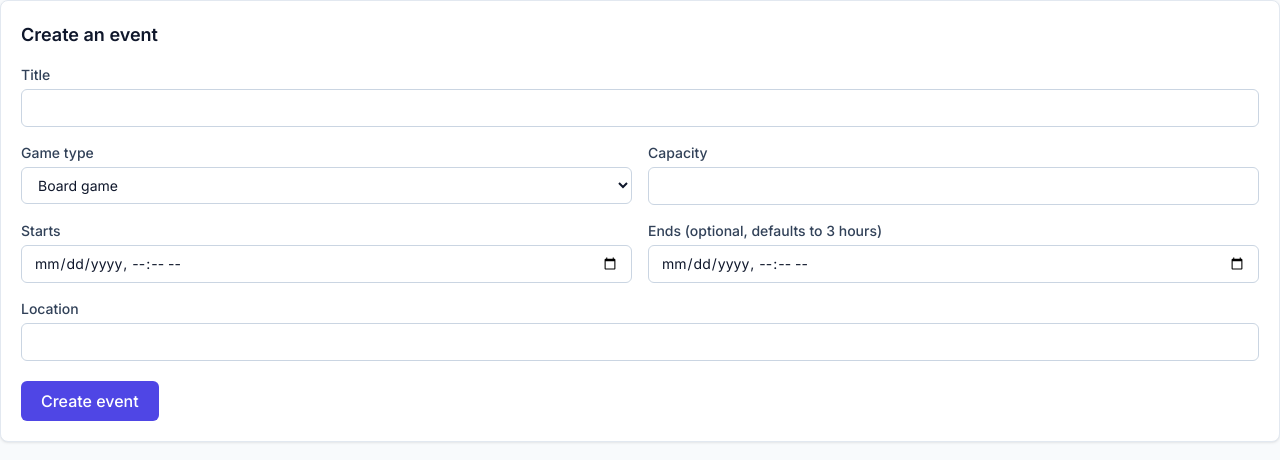
Test: CreateEventForm › submits a valid form, resets it, and notifies the parent
This screenshot has width=1280, height=460.
Type "Sealed League Night" into the field labelled "Title" at (640, 108), box [21, 89, 1259, 127]
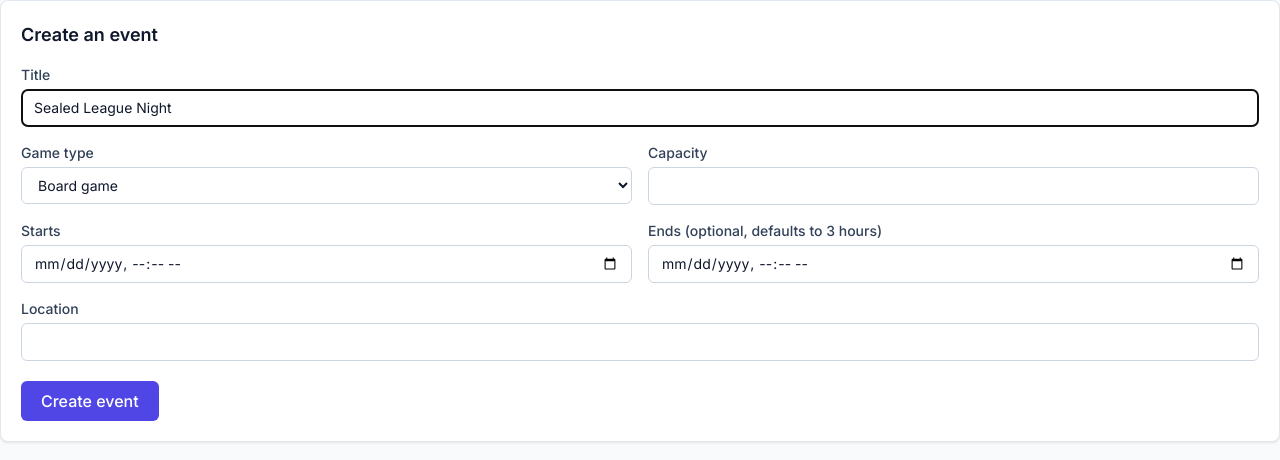
Select "TCG" in the dropdown labelled "Game type" at (326, 186), box [21, 167, 632, 204]
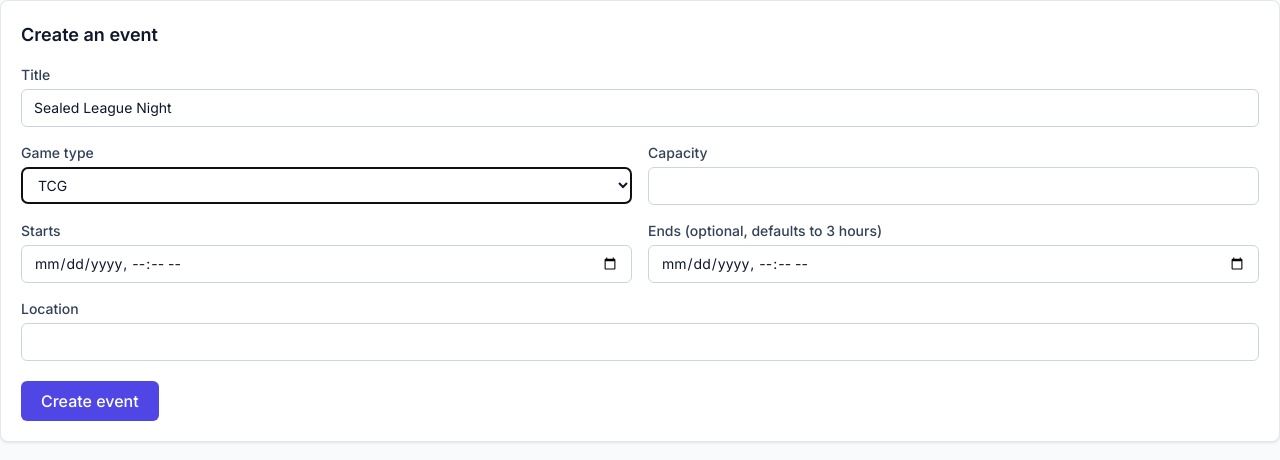
Type "8" into the number field labelled "Capacity" at (954, 186), box [648, 167, 1259, 205]
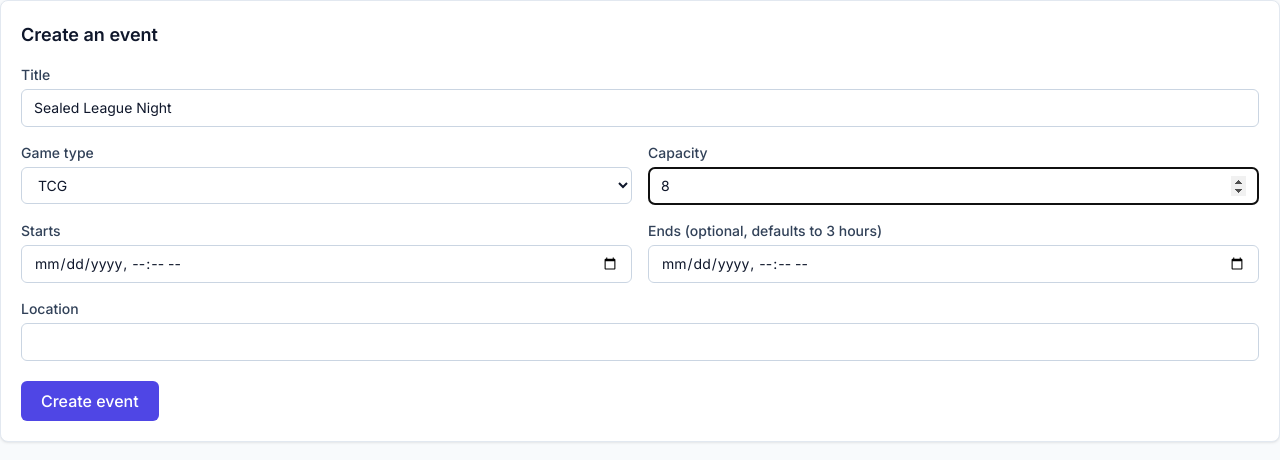
Type "2027-06-01T19:00" into the field labelled "Starts" at (326, 264), box [21, 245, 632, 283]
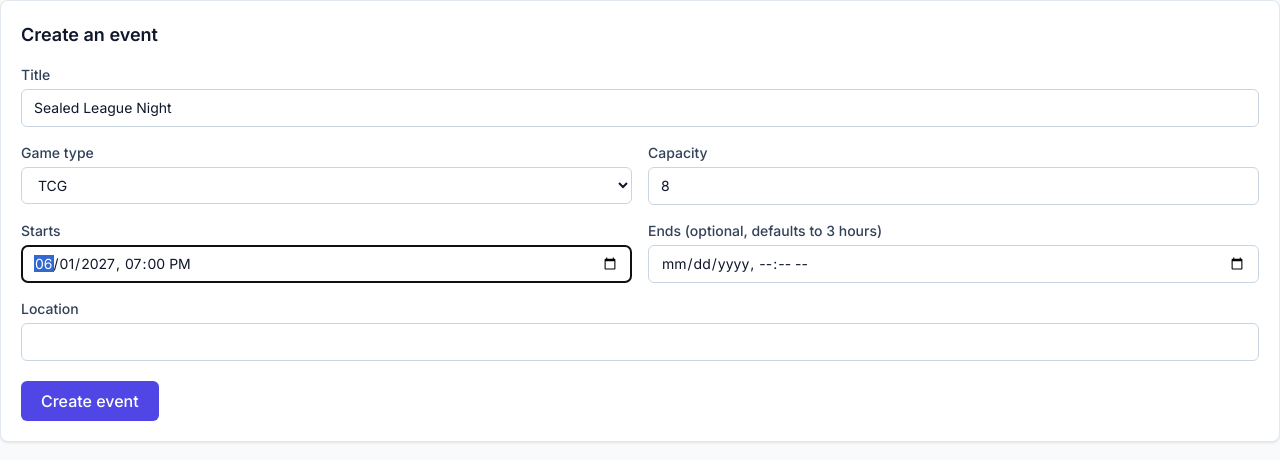
Type "Card Kingdom, Ballard" into the field labelled "Location" at (640, 342), box [21, 323, 1259, 361]
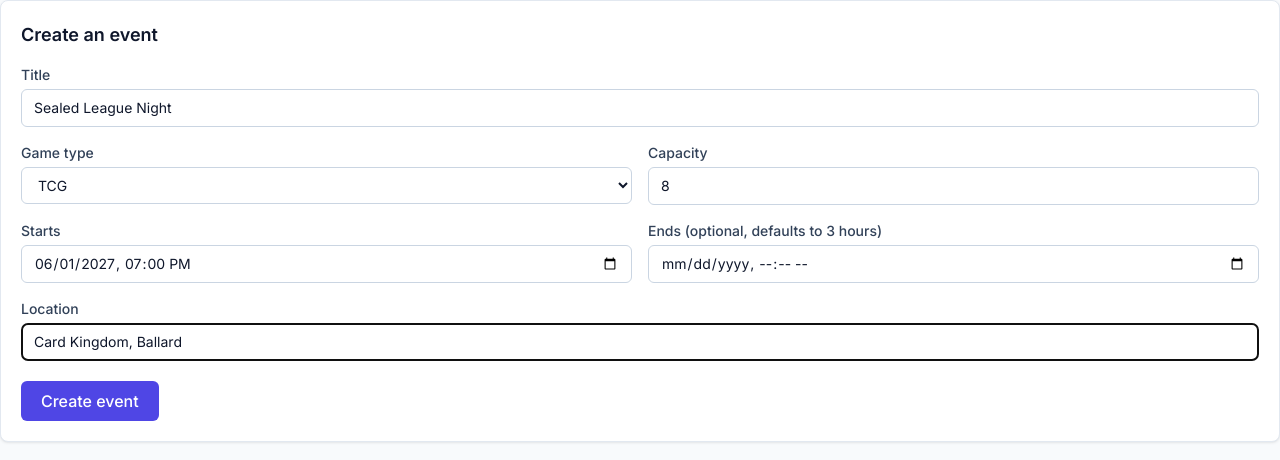
Click the button "Create event" at (90, 401), box [21, 381, 159, 421]
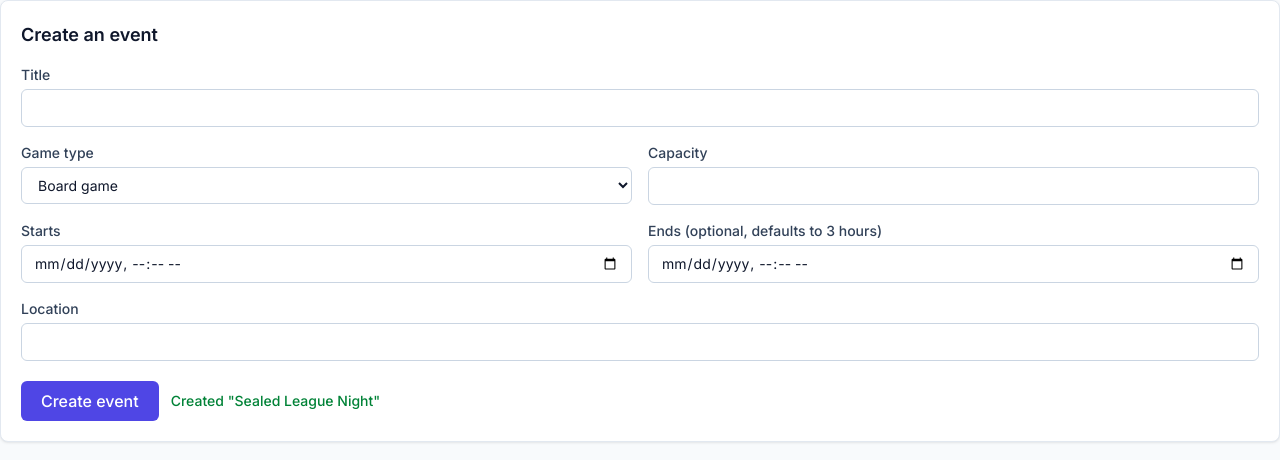
Expected: the message reads "Created \"Sealed League Night\"", [171, 392, 380, 409]
Expected: the field labelled "Title" is empty, [21, 89, 1259, 127]
